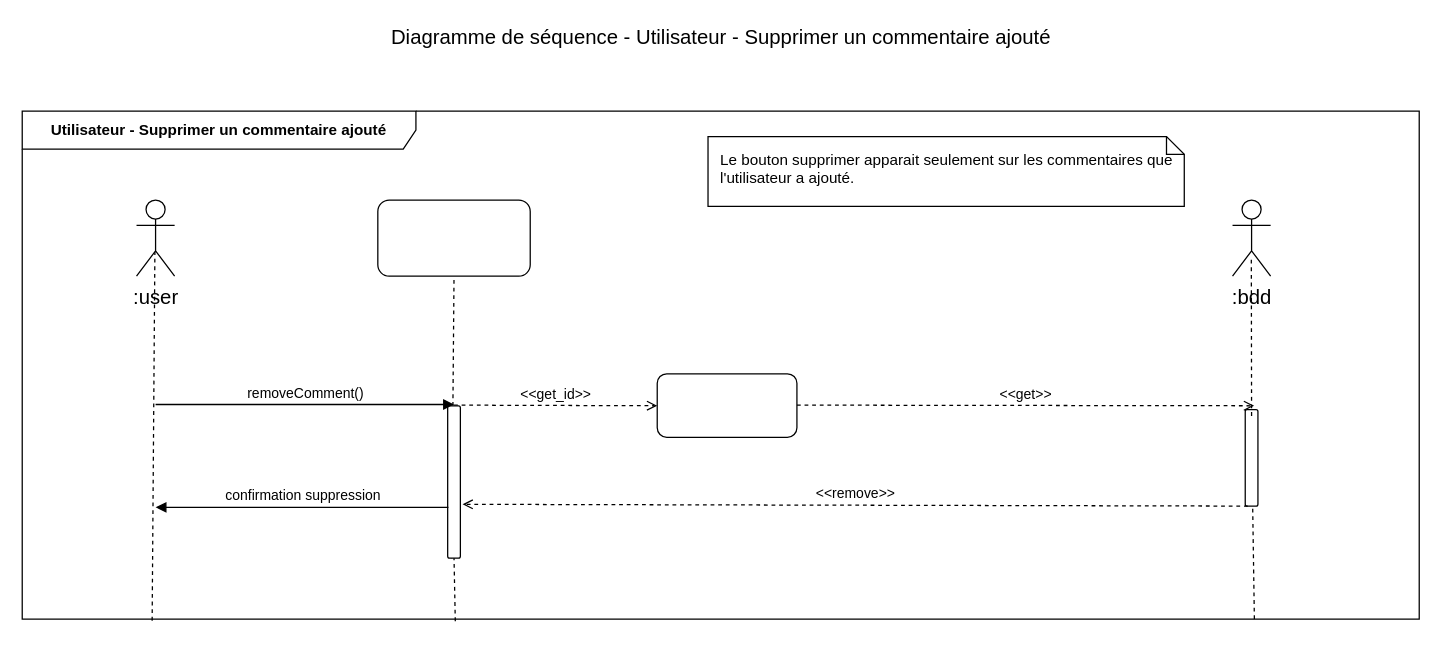
Some shapes in this 1441 by 645 pixel diagram are drawn without their labels. The shapes that lost their labels are listed below. From the top down, each one's box as (x1, y1, x2, y2) in pixels, then its label:
(377, 199, 530, 276): :system
(656, 372, 797, 437): id_comment
